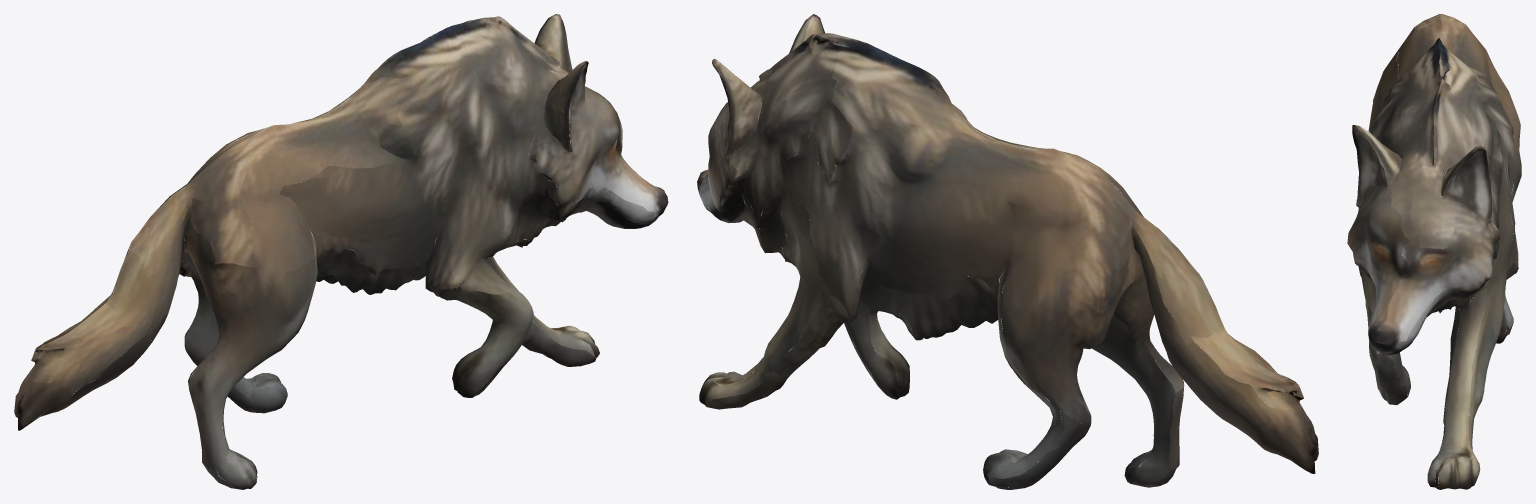
File: wolf.glb
3 renders of one model, left to right at view 1: azimuth 30°, elevation 25°; view 2: azimuth 150°, elevation 25°; view 3: azimuth 270°, elevation 25°, orthographic. The views are drawn at different scales.
Parts seen in each view (by area): view 1: geometry_0; view 2: geometry_0; view 3: geometry_0.
Part boxes in pixels (<box>): geometry_0: <box>14,14,668,489</box>; geometry_0: <box>697,14,1318,489</box>; geometry_0: <box>1347,14,1521,489</box>.
Bounding box in the file's own units: 0.9849 × 0.5794 × 0.239.
1 material, 1 textured.
